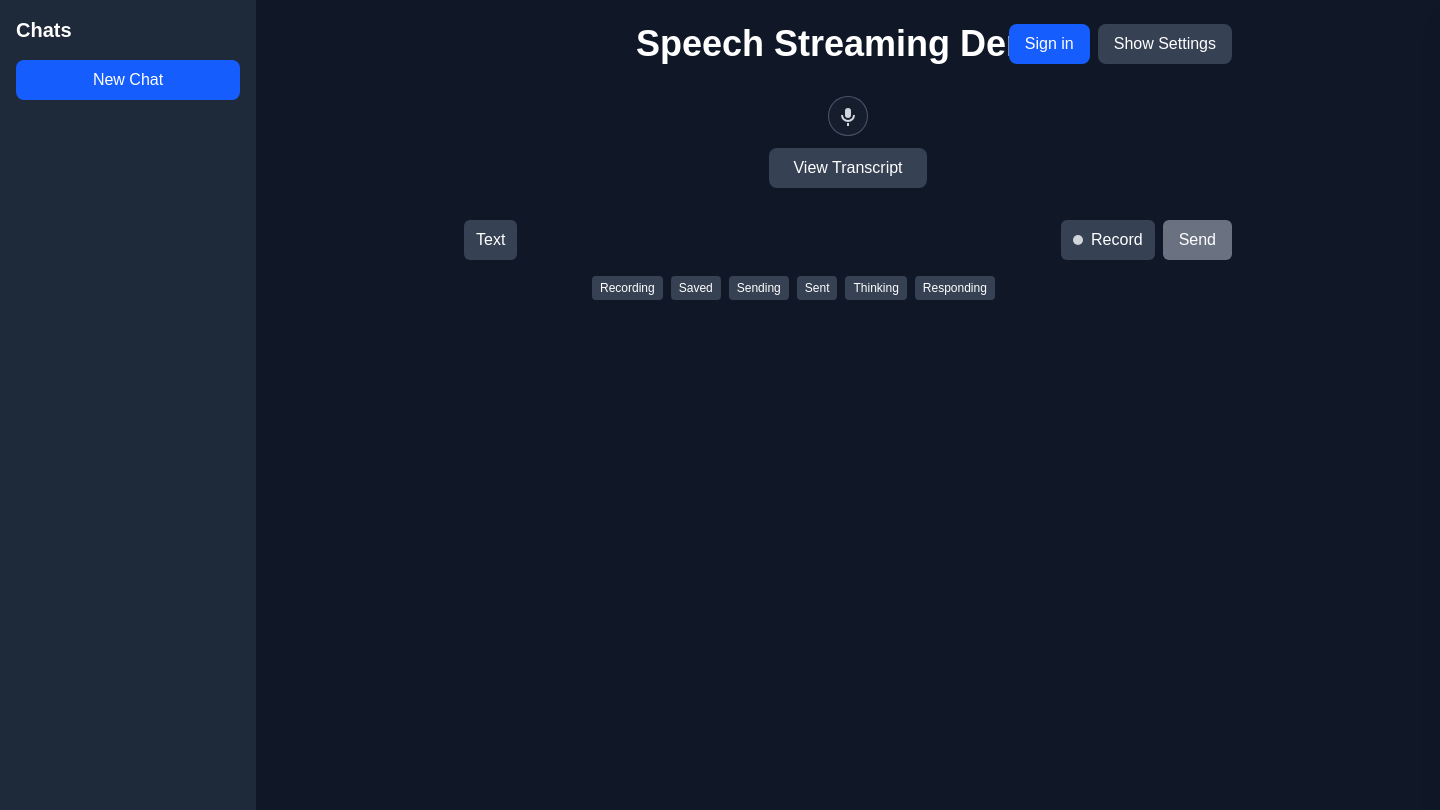
Test: Voice-first control bar UI › clicking "Text" shows a textbox; entering text enables "Send"
This screenshot has width=1440, height=810.
Expected: the button "Send" is disabled, [1163,220,1232,260]
Note: Expand text mode
Click the button "Text" at x=491, y=240, box [464,220,517,260]
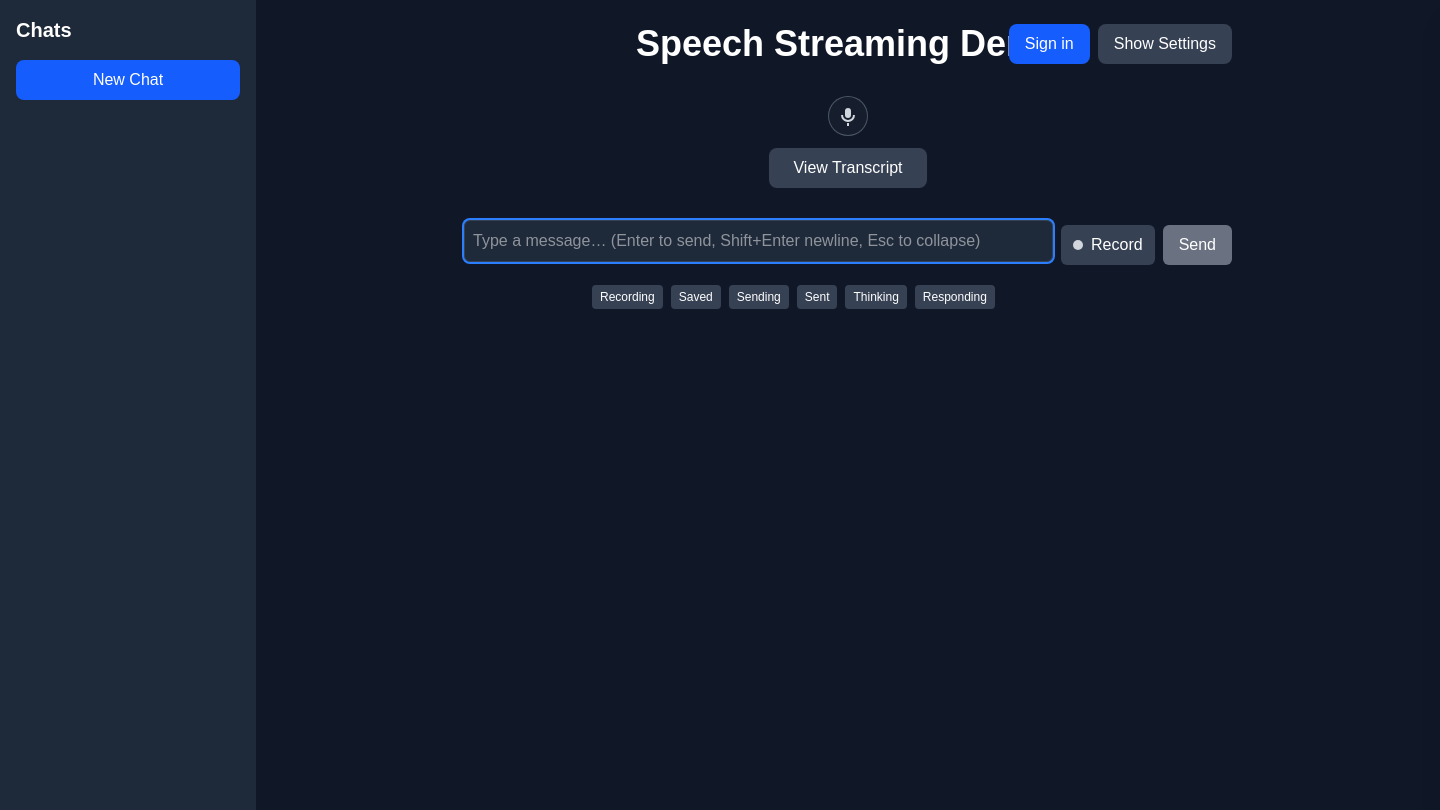
Expected: the text box is shown
Note: Enter some text
Replace the text in the text box with "Hello world" at x=758, y=241, box [464,220,1053,262]
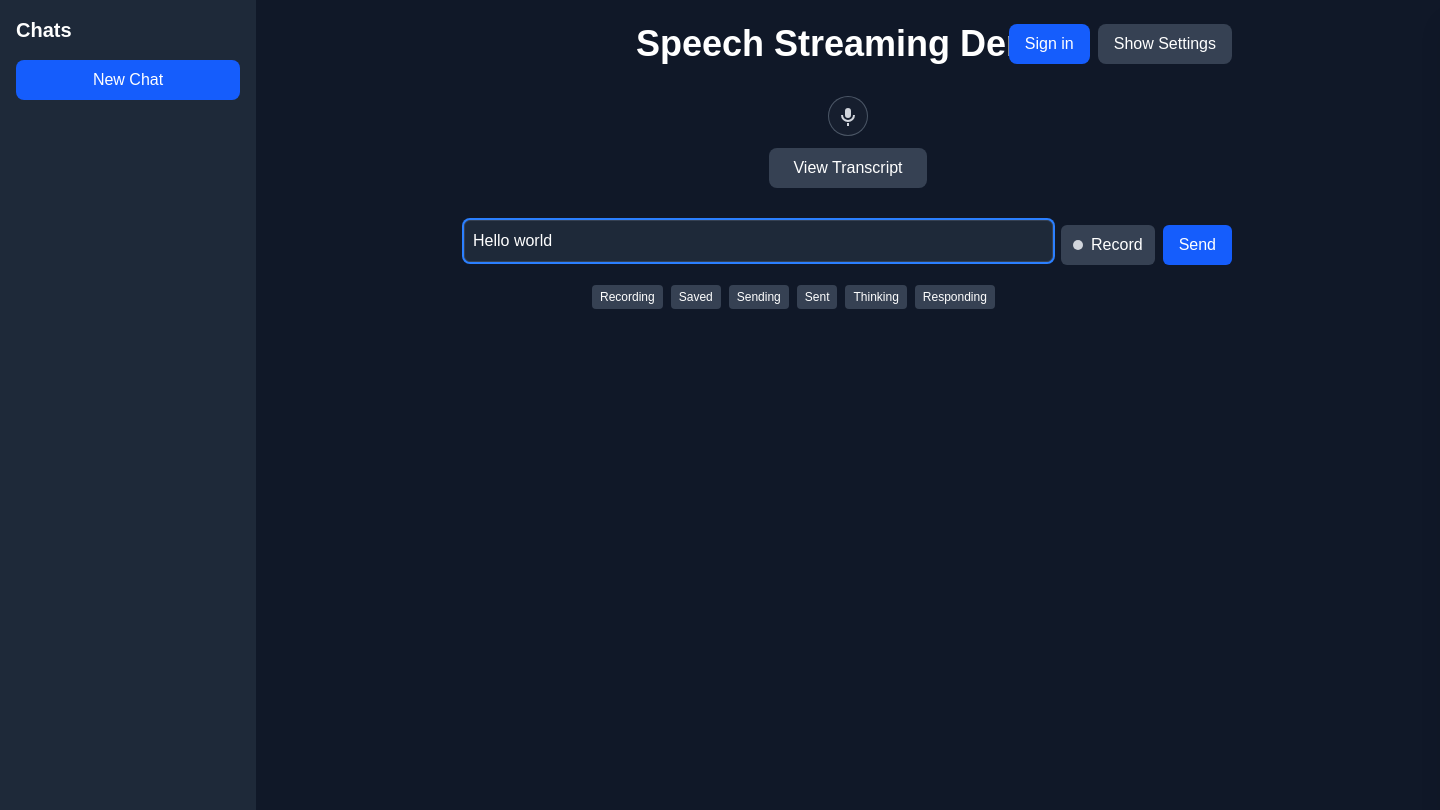
Expected: the button "Send" is enabled, [1163,224,1232,264]
